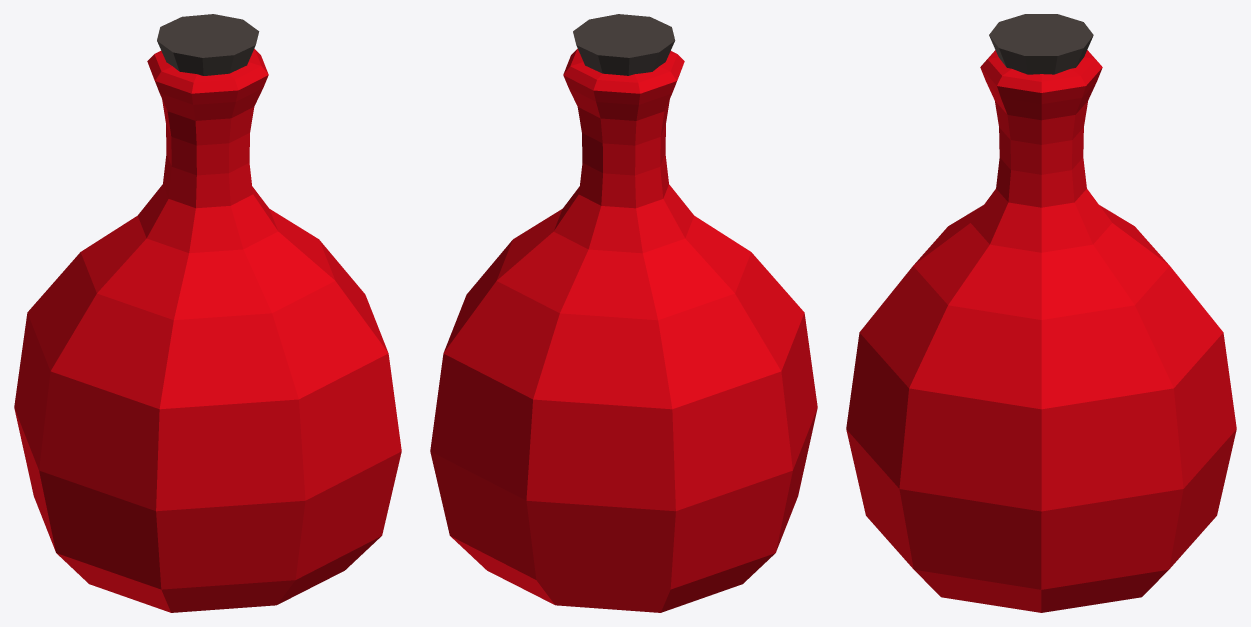
The model's file is Health_Potion.fbx.
3 views of the same model, side by side, from view 1: azimuth 30°, elevation 25°; view 2: azimuth 150°, elevation 25°; view 3: azimuth 270°, elevation 25° (orthographic).
Parts seen in each view (by area): view 1: Health Potion; view 2: Health Potion; view 3: Health Potion.
Boxes of the visible parts, x1=… form: Health Potion: x1=14, y1=14, x2=401, y2=612; Health Potion: x1=430, y1=14, x2=817, y2=612; Health Potion: x1=846, y1=14, x2=1236, y2=612.
Size of the model in its own units: 23.44 by 34.92 by 23.44.
